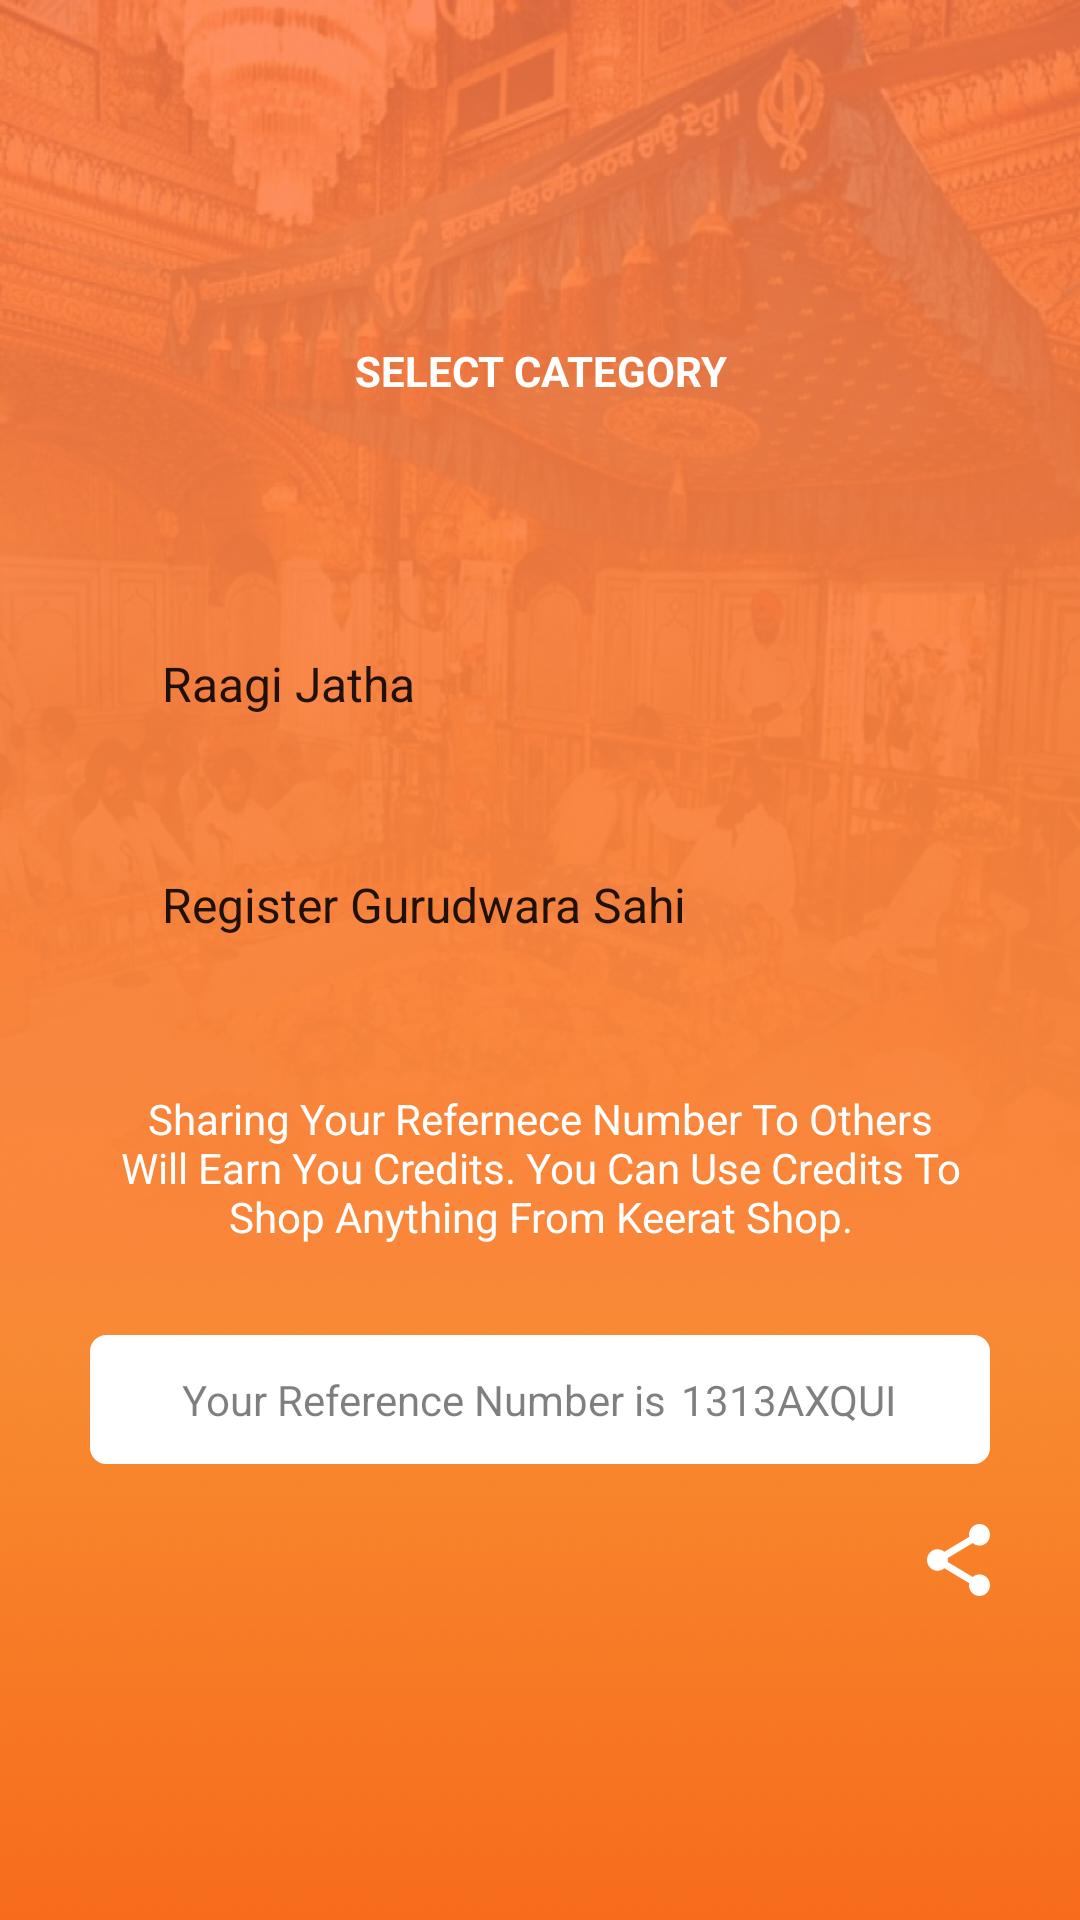

Where icons sit on this 1080 x 1920 app screen, as (x1, y1, x2, y2):
share: (927, 1524, 990, 1596)
